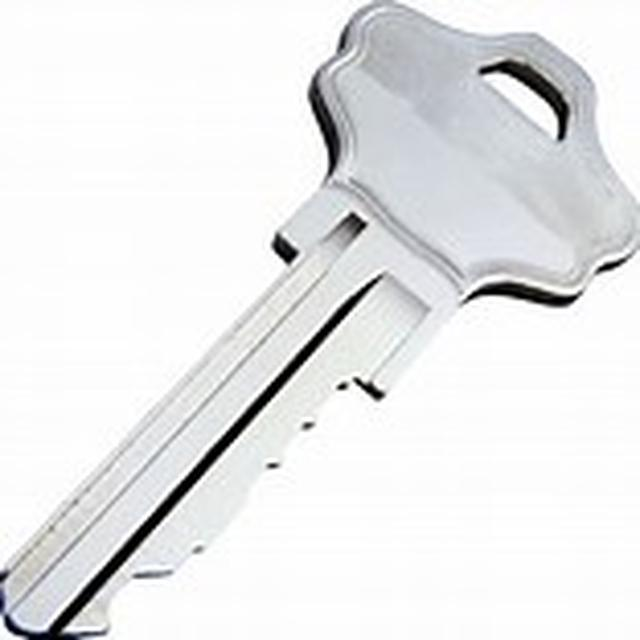key: (8, 30, 638, 640)
